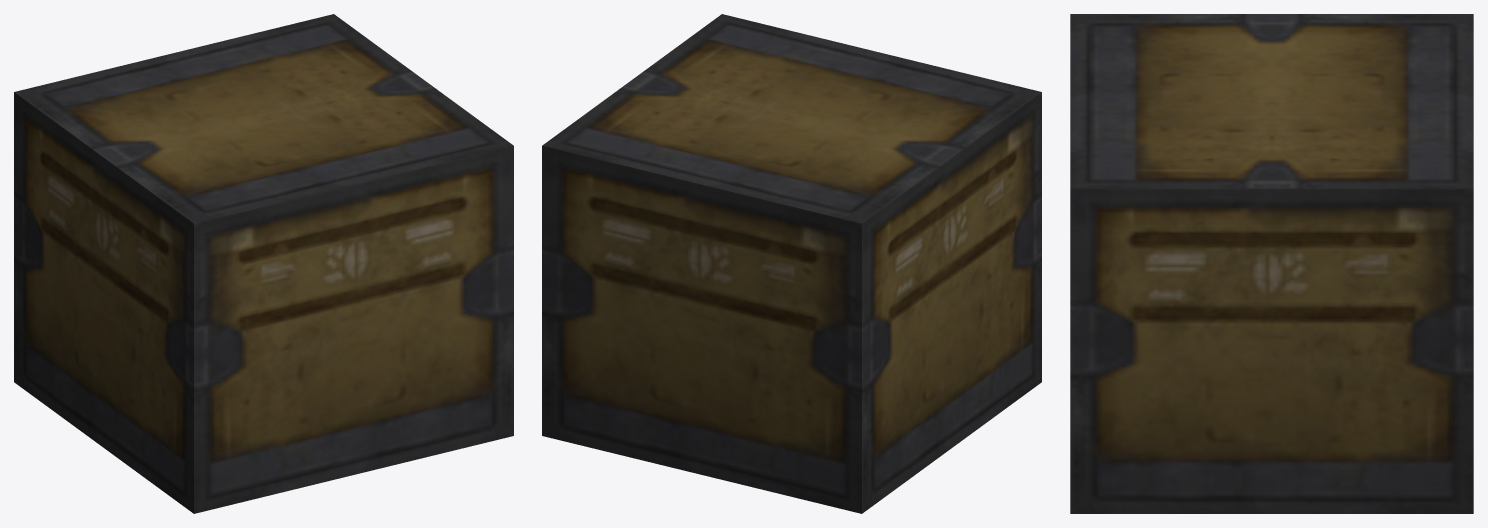
File: yw_museyulin_xiangzi01.FBX
3 renders of one model, left to right at view 1: azimuth 30°, elevation 25°; view 2: azimuth 150°, elevation 25°; view 3: azimuth 270°, elevation 25°, orthographic. The views are drawn at different scales.
Visible parts, largest first — view 1: yw_museyulin_xiangzi01; view 2: yw_museyulin_xiangzi01; view 3: yw_museyulin_xiangzi01.
Boxes of the visible parts, x1,y1,x2,y2 form: yw_museyulin_xiangzi01: (14,14,513,513); yw_museyulin_xiangzi01: (542,14,1041,513); yw_museyulin_xiangzi01: (1070,14,1473,513).
Bounding box in the file's own units: 86.82 × 75.3 × 84.59.
1 material, 1 textured.
